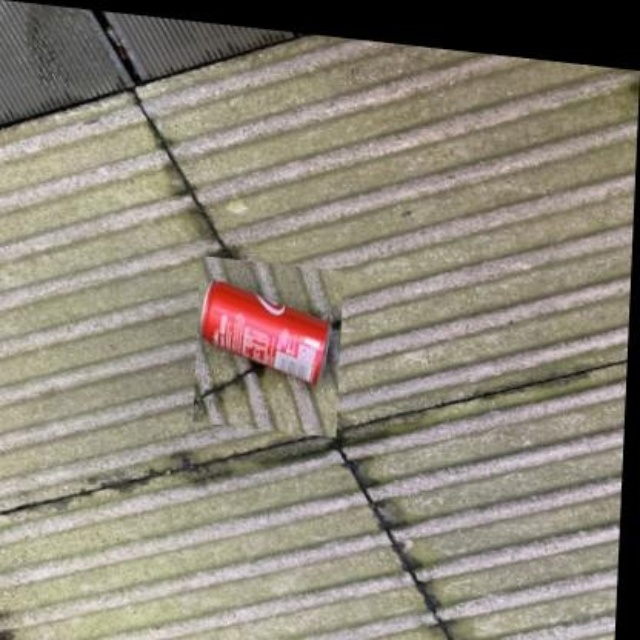trash: (200, 282, 328, 383)
